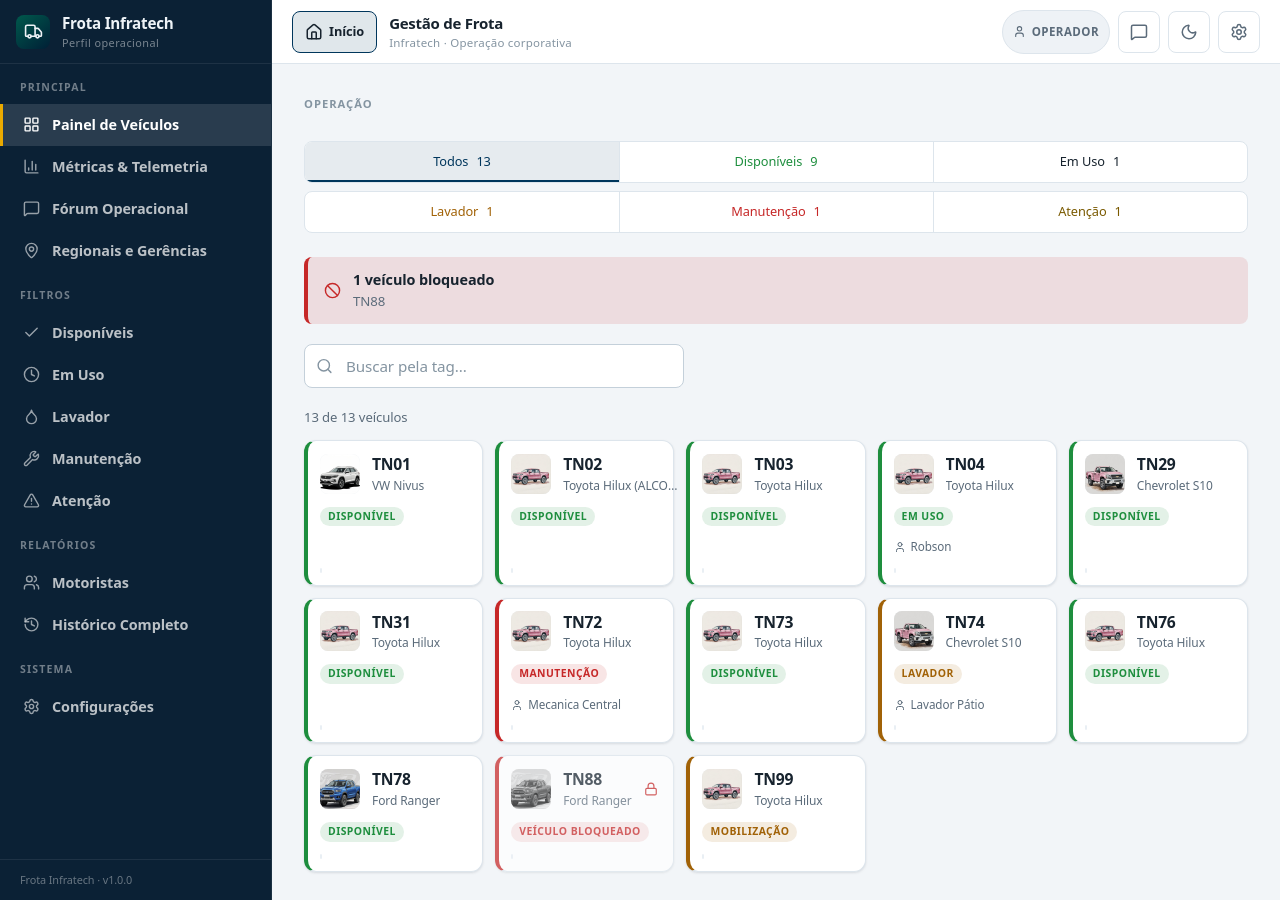
it: Aplicação — operação › navega por todas as páginas sem quebrar
Expected: the element named "Frota Infratech" is shown, [0,0,272,899]
Click the button "Métricas & Telemetria" at x=136, y=167, box [0,146,271,188]
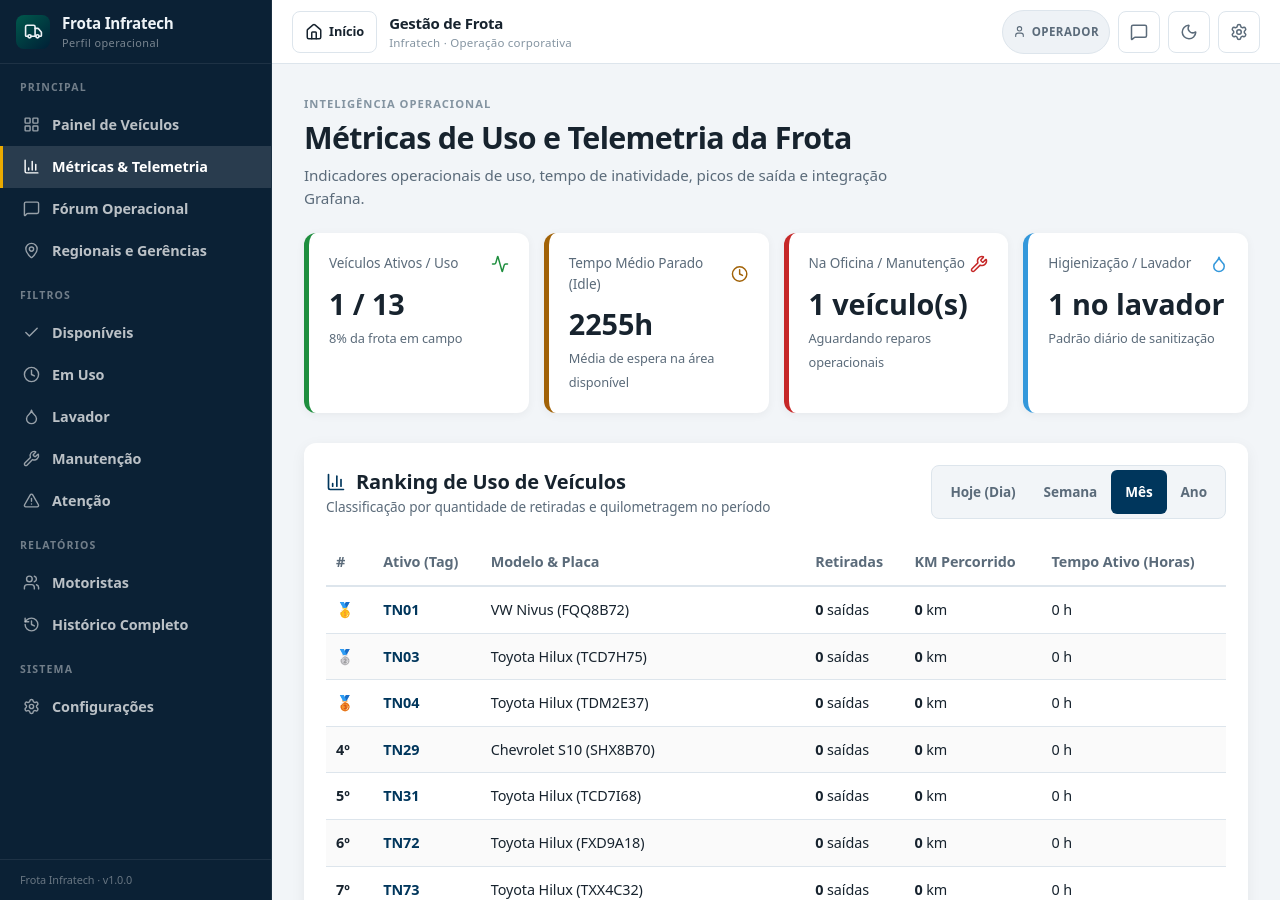
Result: the heading "Métricas de Uso e Telemetria da Frota" is shown at [304,121,895,156]
Click the button "Fórum Operacional" at x=136, y=209, box [0,188,271,230]
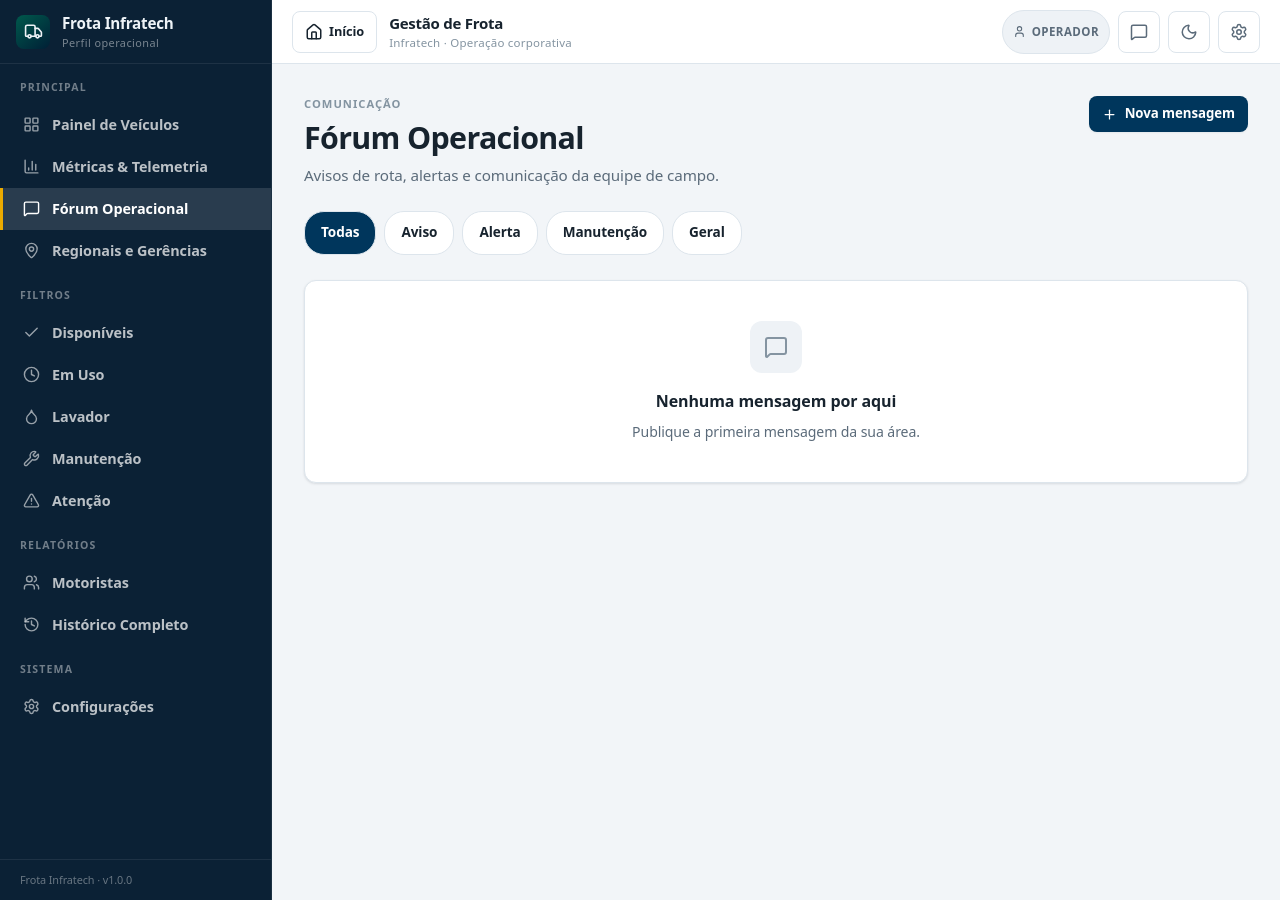
Result: the heading "Fórum Operacional" is shown at [304,117,584,158]
Click the button "Regionais e Gerências" at x=136, y=251, box [0,230,271,272]
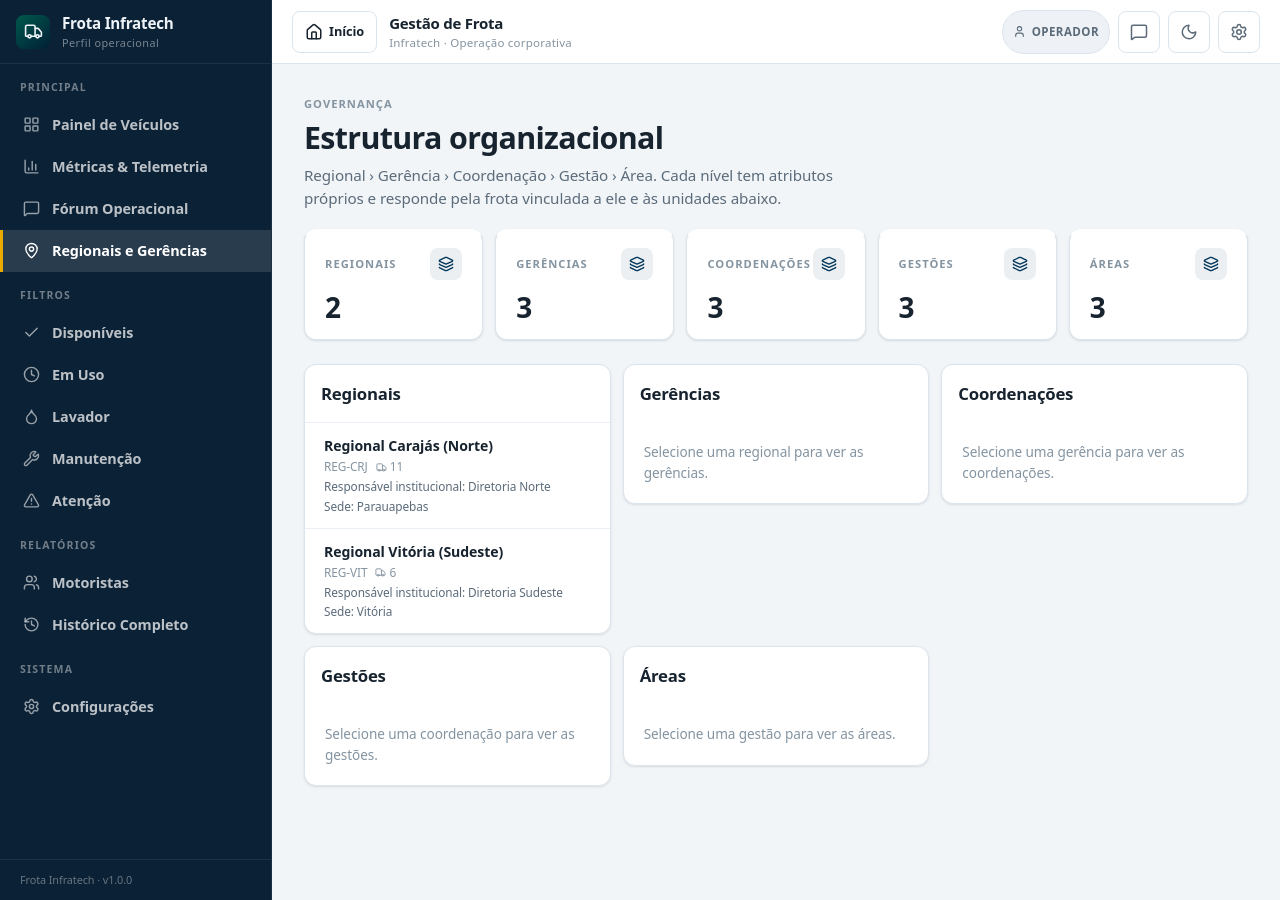
Result: the heading "Estrutura organizacional" is shown at [304,117,663,158]
Click the button "Motoristas" at x=90, y=582, box [0,562,271,604]
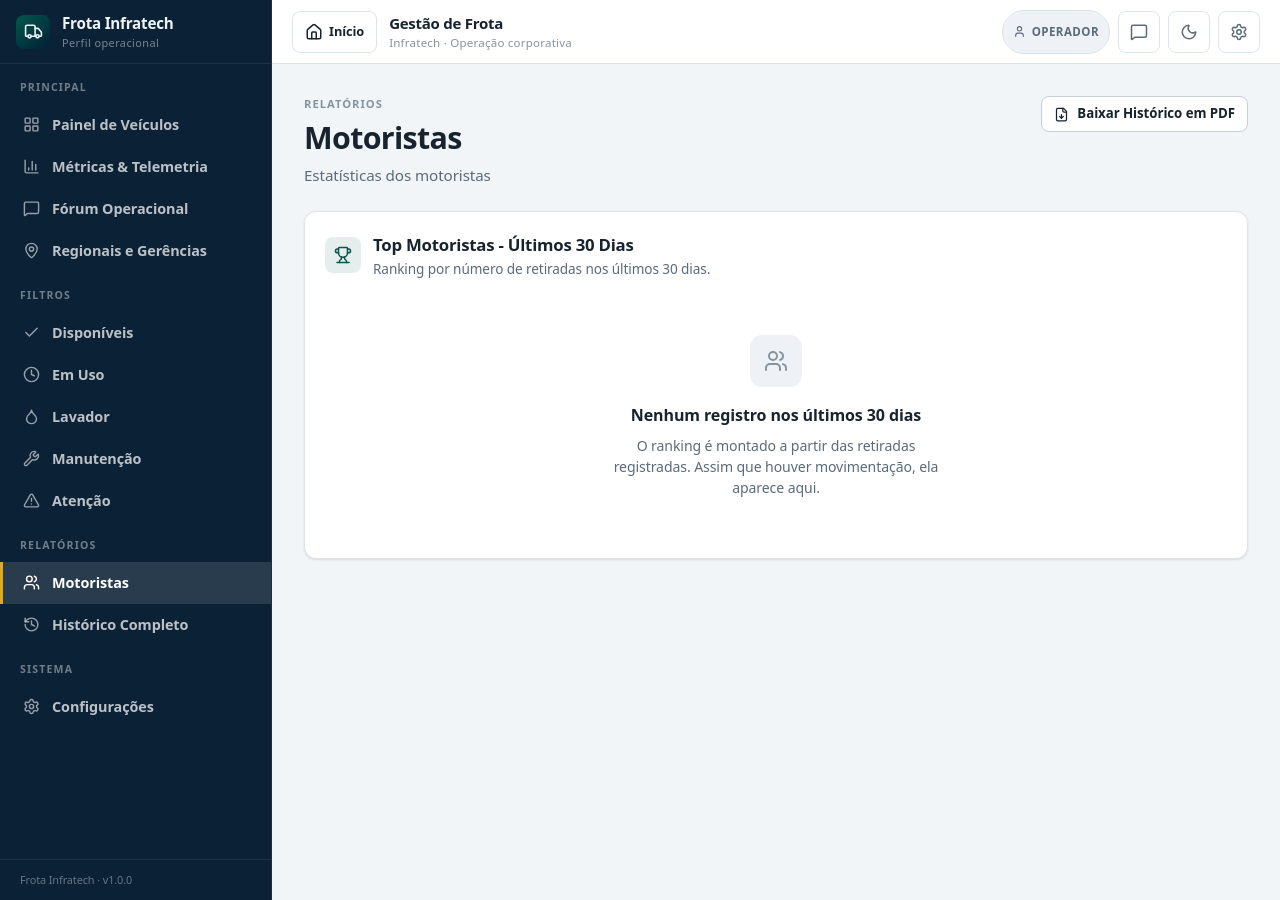
Result: the heading "Motoristas" is shown at [304,117,462,158]
Click the button "Configurações" at x=136, y=706, box [0,685,271,727]
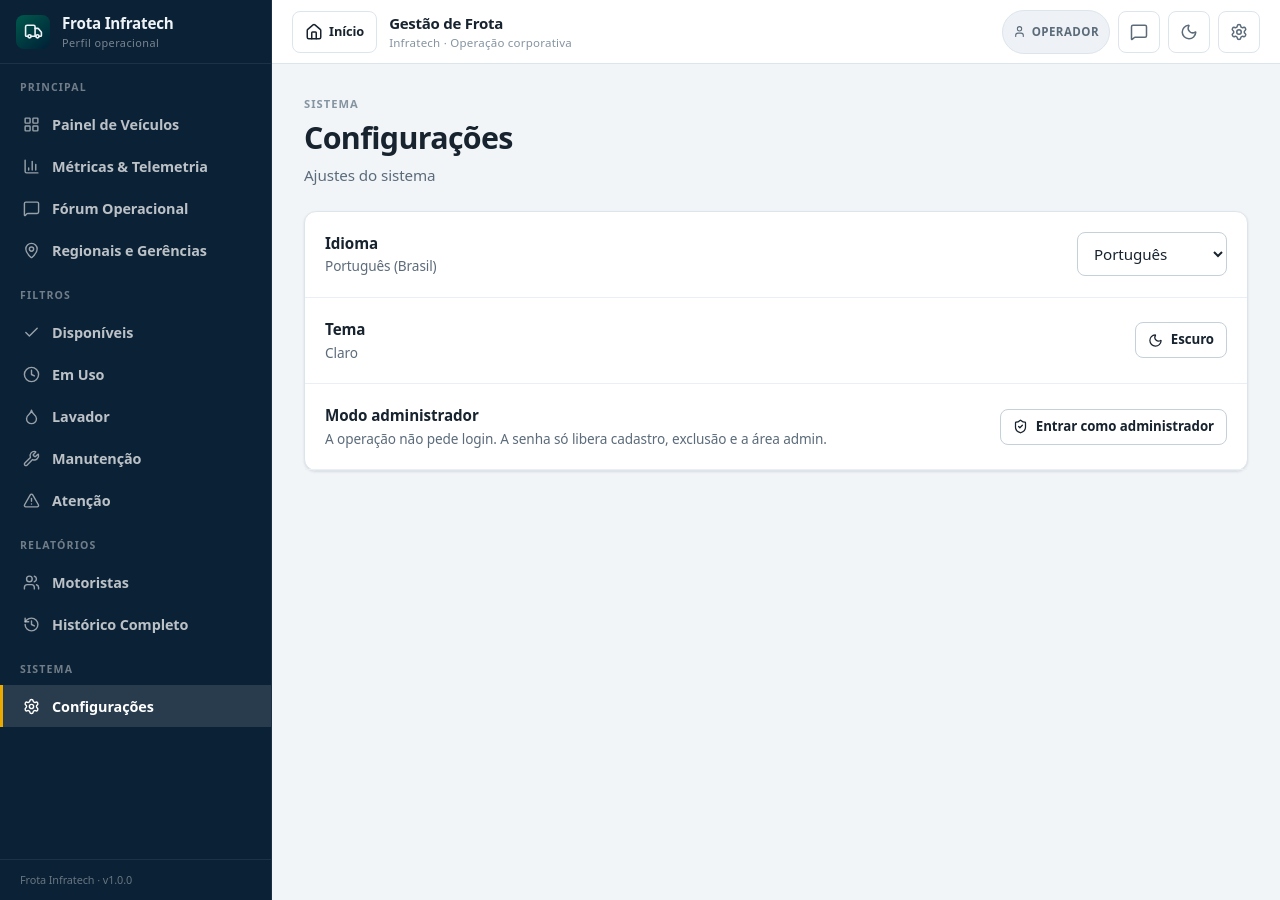
Result: the heading "Configurações" is shown at [304,121,513,156]
